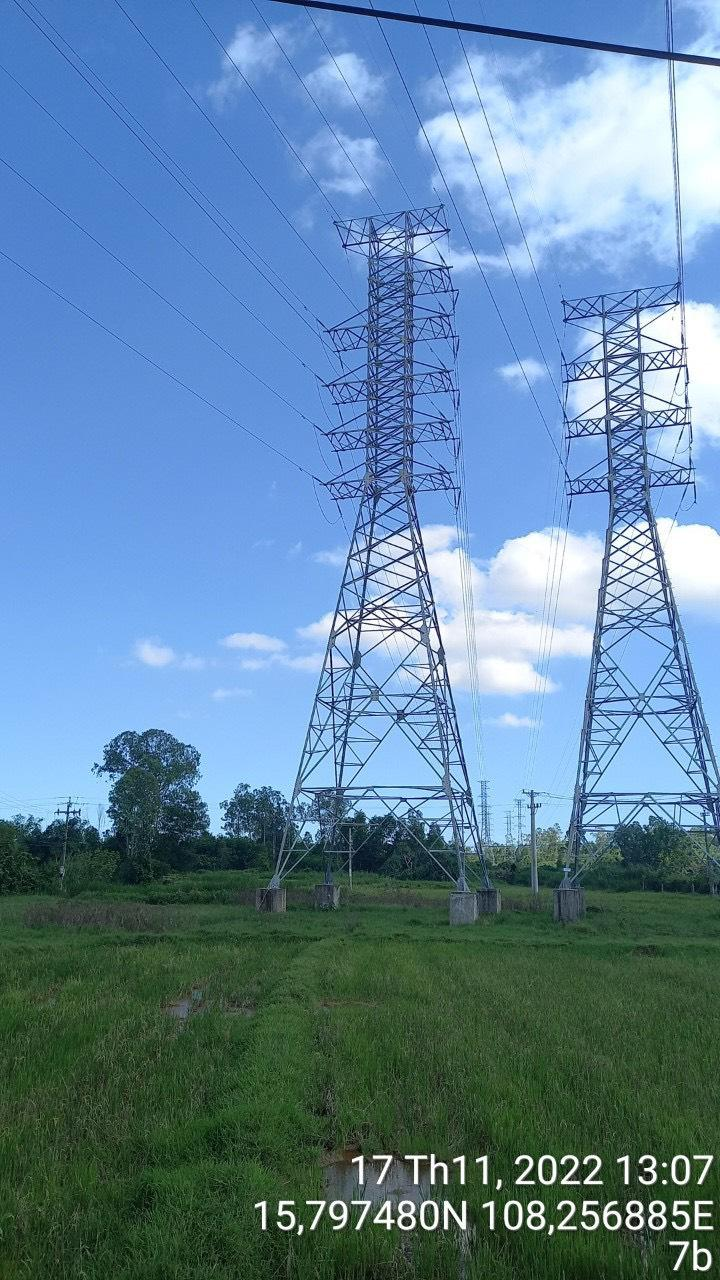power_tower: (542, 284, 720, 898)
